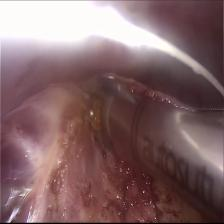Clipper: (74, 71, 146, 162)
